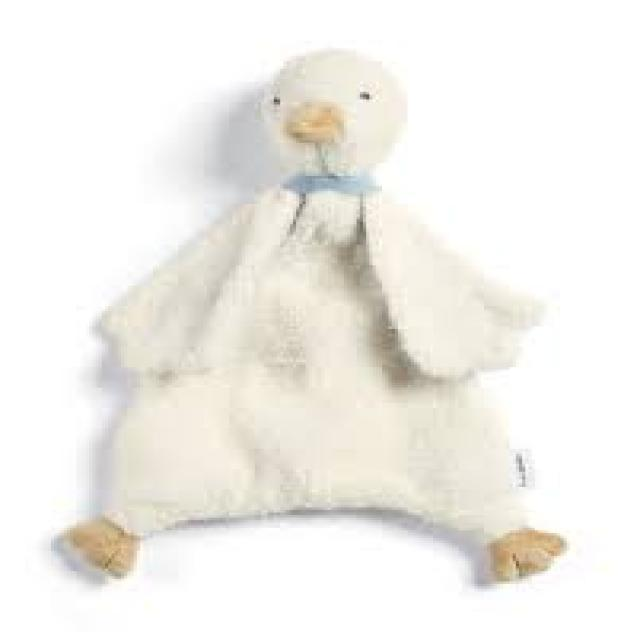soft-toy: (104, 51, 531, 531), (480, 530, 562, 580), (78, 520, 136, 573)
